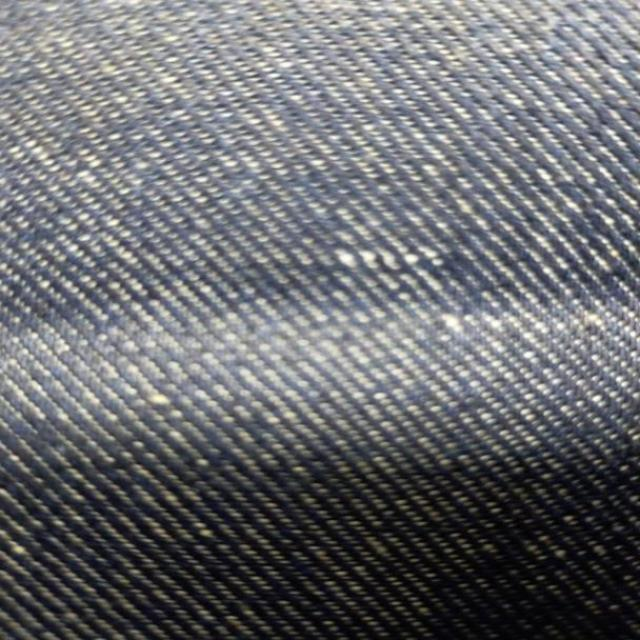Knot: (335, 248, 445, 270)
